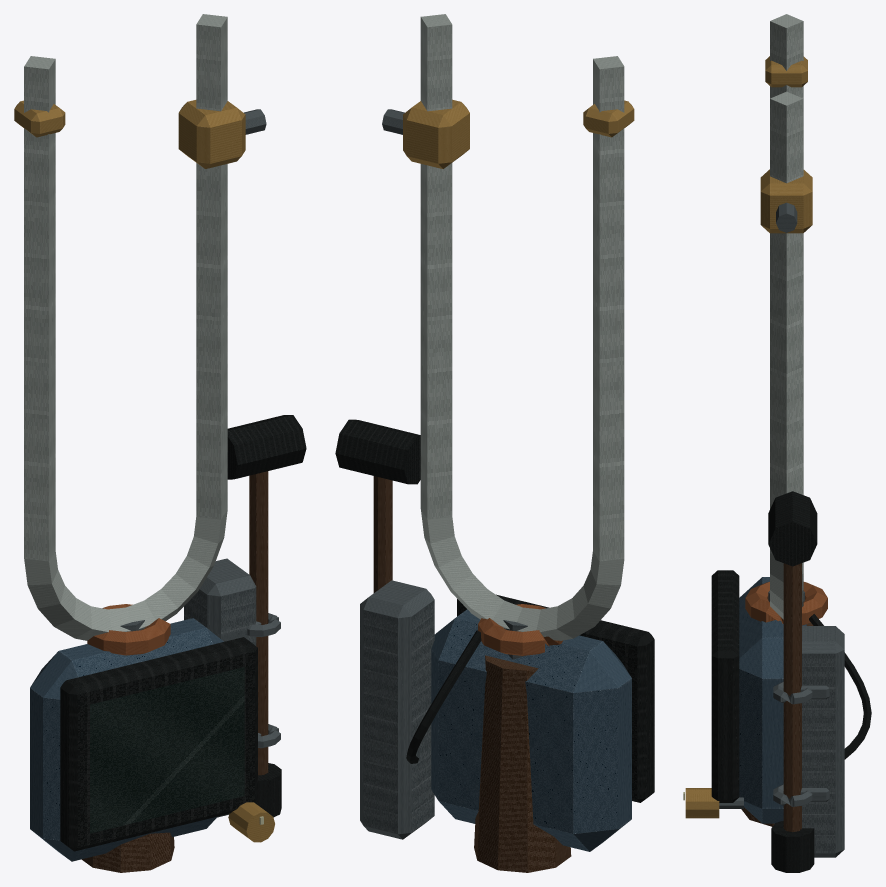
File: blender_resonance_tuner_3.glb
The picture shows the model from 3 angles, left to right: view 1: azimuth 30°, elevation 25°; view 2: azimuth 150°, elevation 25°; view 3: azimuth 270°, elevation 25°; orthographic projection. The views are drawn at different scales.
Parts seen in each view (by area): view 1: blender_resonance_tuner_3; view 2: blender_resonance_tuner_3; view 3: blender_resonance_tuner_3.
Part boxes in pixels (bbox=[...]): blender_resonance_tuner_3: bbox=[14, 14, 306, 872]; blender_resonance_tuner_3: bbox=[335, 14, 654, 872]; blender_resonance_tuner_3: bbox=[683, 14, 871, 872].
Size of the model in its own units: 0.0955 by 0.27 by 0.0616.
Materials: 9 (9 with a texture image).
